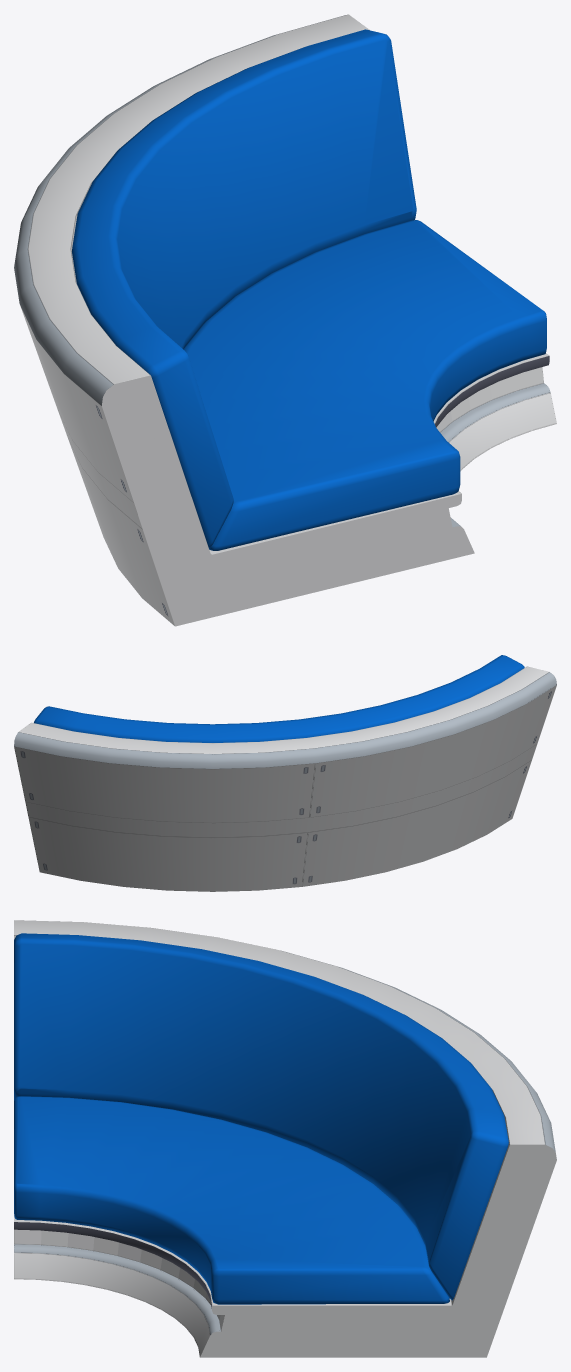
Rendered from Sofa_Angle_04.FBX.
3 views of the same model, one above another, from view 1: azimuth 30°, elevation 25°; view 2: azimuth 150°, elevation 25°; view 3: azimuth 270°, elevation 25° (orthographic). The views are drawn at different scales.
Visible parts, largest first — view 1: Sofa_Angle_04; view 2: Sofa_Angle_04; view 3: Sofa_Angle_04.
Boxes of the visible parts, <box> form: Sofa_Angle_04: <box>14,14,556,626</box>; Sofa_Angle_04: <box>14,655,556,891</box>; Sofa_Angle_04: <box>14,920,556,1357</box>.
Bounding box in the file's own units: 2.37 × 1.07 × 2.37.
